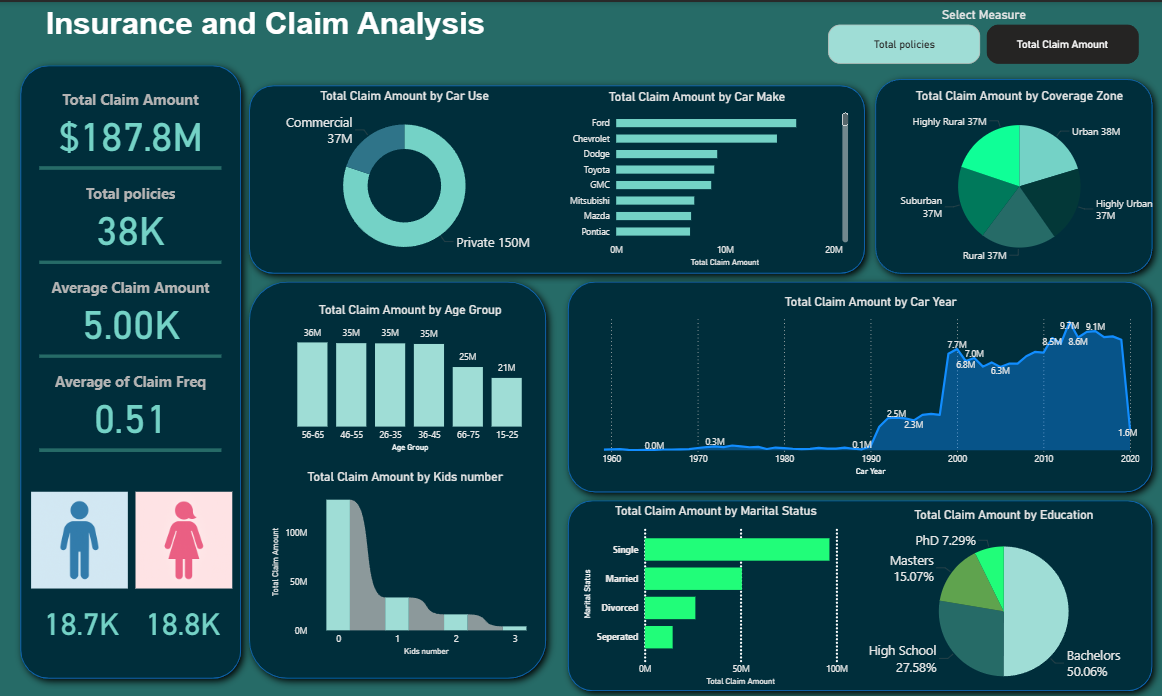

What the dashboard file says about the page in this screenshot:
{"tool":"powerbi","page":{"name":"Page 1","canvas":[1600,960],"ordinal":0},"visuals":[{"type":"textbox","box":[61.7,0,686.1,72],"z":0},{"type":"shape","box":[17.2,72,332.8,871.4],"z":1000},{"type":"cardVisual","fields":{"Data":["insurance_data_car.Total Claim Amount","insurance_data_car.Total policies","insurance_data_car.Average Claim Amount","Avg(insurance_data_car.Claim Freq)"]},"box":[53.2,99.5,260.7,523.2],"z":2000},{"type":"cardVisual","fields":{"Data":["Car_Details.Male count","Car_Details.Female count"]},"box":[42.9,783.9,286.5,128.6],"z":3000},{"type":"image","box":[41.2,667.2,144.1,142.4],"z":4000},{"type":"image","box":[185.2,667.2,142.4,142.4],"z":5000},{"type":"shape","box":[331,99.5,874.8,288.2],"z":6000},{"type":"advancedSlicerVisual","fields":{"Values":["Select Measure.Select Measure"]},"box":[1135.5,6.9,437.4,84],"z":7000},{"type":"donutChart","fields":{"Y":["insurance_data_car.Total Claim Amount"],"Category":["insurance_data_car.Car Use"]},"box":[349.9,118.4,418.5,248.7],"z":8000},{"type":"clusteredBarChart","fields":{"Y":["insurance_data_car.Total Claim Amount"],"Category":["insurance_data_car.Car Make"]},"box":[747.9,120.1,425.4,248.7],"z":9000},{"type":"shape","box":[1190.4,90.9,409.9,296.7],"z":10000},{"type":"pieChart","fields":{"Y":["insurance_data_car.Total Claim Amount"],"Category":["insurance_data_car.Coverage Zone"]},"box":[1205.8,118.4,394.5,250.4],"z":11000},{"type":"shape","box":[331,368.8,437.4,574.6],"z":12000},{"type":"clusteredColumnChart","fields":{"Y":["insurance_data_car.Total Claim Amount"],"Category":["insurance_data_car.Age Group"]},"box":[385.9,411.7,361.9,211],"z":13000},{"type":"ribbonChart","fields":{"Y":["insurance_data_car.Total Claim Amount"],"Category":["insurance_data_car.Kids Driving"]},"box":[372.2,641.5,375.6,260.7],"z":14000},{"type":"shape","box":[768.4,368.8,831.9,319],"z":15000},{"type":"areaChart","fields":{"Y":["insurance_data_car.Total Claim Amount"],"Category":["insurance_data_car.Car Year"]},"box":[825,401.4,747.9,253.9],"z":16000},{"type":"shape","box":[768.4,669,831.9,291.6],"z":16500},{"type":"pieChart","fields":{"Y":["insurance_data_car.Total Claim Amount"],"Category":["insurance_data_car.Education"]},"box":[1190.4,693,382.5,267.6],"z":17000},{"type":"clusteredBarChart","fields":{"Y":["insurance_data_car.Total Claim Amount"],"Category":["insurance_data_car.Marital Status"]},"box":[799.3,687.8,373.9,255.6],"z":19000}]}

Visuals, with their boxes in screenshot pixels (x1, y1, x2, y2), scaled from the page's 1600x960 canvas onto the 1162x696 screenshot:
textbox: select_region(45, 0, 543, 52)
shape: select_region(12, 52, 254, 684)
cardVisual - insurance_data_car.Total Claim Amount x insurance_data_car.Total policies: select_region(39, 72, 228, 451)
cardVisual - Car_Details.Male count x Car_Details.Female count: select_region(31, 568, 239, 662)
image: select_region(30, 484, 135, 587)
image: select_region(135, 484, 238, 587)
shape: select_region(240, 72, 876, 281)
advancedSlicerVisual - Select Measure.Select Measure: select_region(825, 5, 1142, 66)
donutChart - insurance_data_car.Total Claim Amount x insurance_data_car.Car Use: select_region(254, 86, 558, 266)
clusteredBarChart - insurance_data_car.Total Claim Amount x insurance_data_car.Car Make: select_region(543, 87, 852, 267)
shape: select_region(865, 66, 1161, 281)
pieChart - insurance_data_car.Total Claim Amount x insurance_data_car.Coverage Zone: select_region(876, 86, 1161, 267)
shape: select_region(240, 267, 558, 684)
clusteredColumnChart - insurance_data_car.Total Claim Amount x insurance_data_car.Age Group: select_region(280, 298, 543, 451)
ribbonChart - insurance_data_car.Total Claim Amount x insurance_data_car.Kids Driving: select_region(270, 465, 543, 654)
shape: select_region(558, 267, 1161, 499)
areaChart - insurance_data_car.Total Claim Amount x insurance_data_car.Car Year: select_region(599, 291, 1142, 475)
shape: select_region(558, 485, 1161, 695)
pieChart - insurance_data_car.Total Claim Amount x insurance_data_car.Education: select_region(865, 502, 1142, 695)
clusteredBarChart - insurance_data_car.Total Claim Amount x insurance_data_car.Marital Status: select_region(580, 499, 852, 684)
